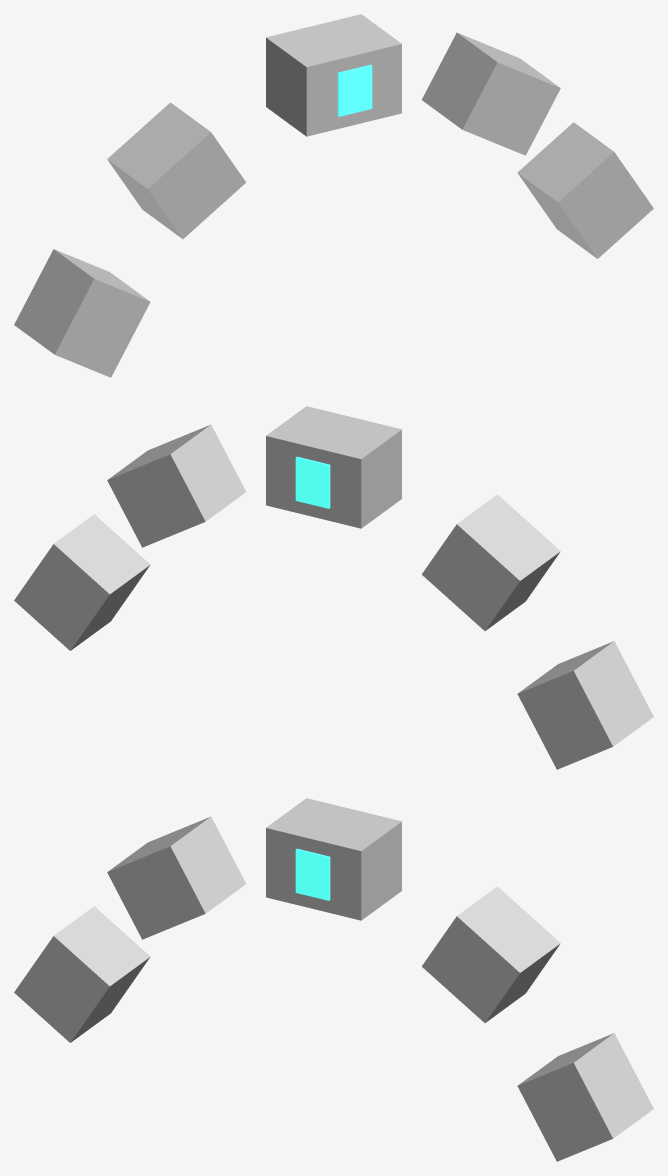
Rendered from portal_arch.glb.
3 views of the same model, one above another, from view 1: azimuth 30°, elevation 25°; view 2: azimuth 150°, elevation 25°; view 3: azimuth 330°, elevation 25° (orthographic).
Visible parts, largest first — view 1: portal_arch; view 2: portal_arch; view 3: portal_arch.
Boxes of the visible parts, x1,y1,x2,y2 form: portal_arch: (14,14,653,377); portal_arch: (14,406,653,769); portal_arch: (14,798,653,1161).
Size of the model in its own units: 2.89 by 1.21 by 0.36.
